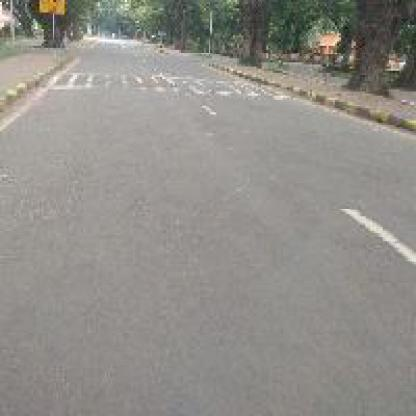Speed Bump: (56, 70, 283, 98)
